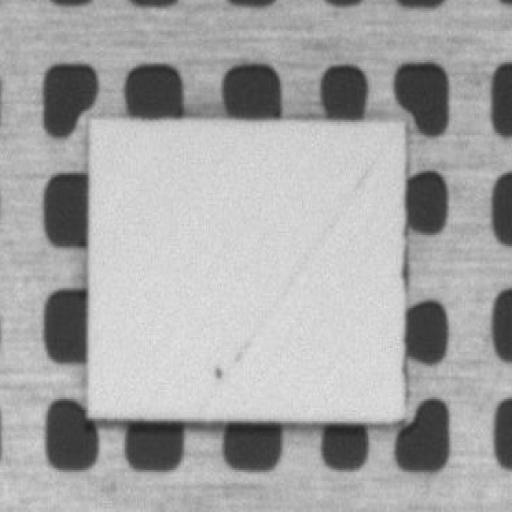DIE_INK: (213, 362, 222, 380)
